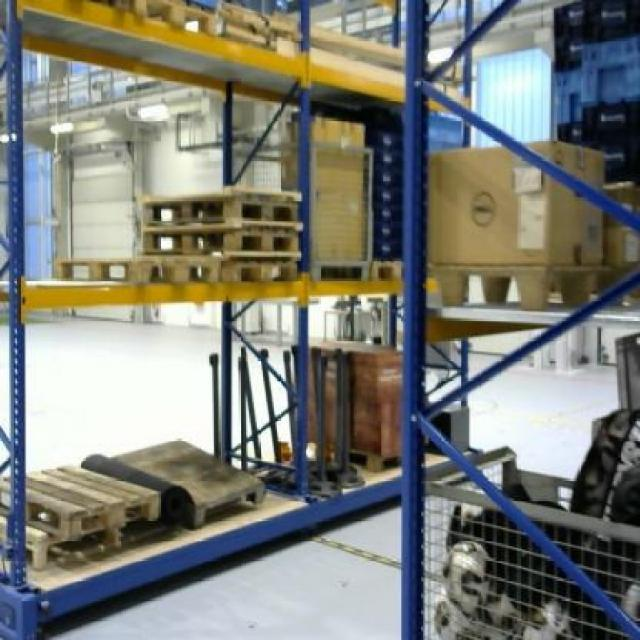box: (428, 134, 604, 262), (311, 113, 364, 258)
